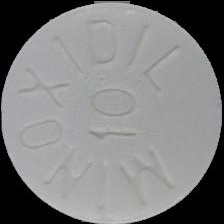49884-257: (0, 0, 224, 224)
